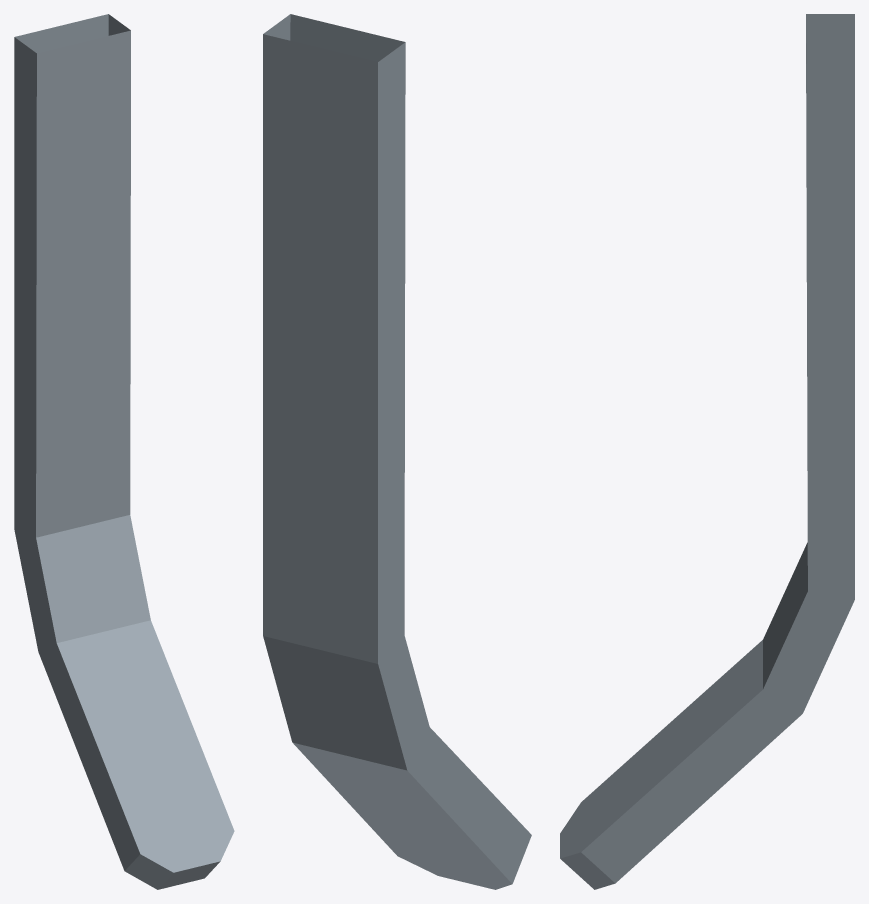
Rendered from SM_Prop_Kitchen_Drinks_Machine_01_Handle_03.obj.
3 views of the same model, side by side, from view 1: azimuth 30°, elevation 25°; view 2: azimuth 150°, elevation 25°; view 3: azimuth 270°, elevation 25° (orthographic). The views are drawn at different scales.
Visible parts, largest first — view 1: SM_Prop_Kitchen_Drinks_Machine_01_Handle_03_0; view 2: SM_Prop_Kitchen_Drinks_Machine_01_Handle_03_0; view 3: SM_Prop_Kitchen_Drinks_Machine_01_Handle_03_0.
Boxes of the visible parts, x1,y1,x2,y2 form: SM_Prop_Kitchen_Drinks_Machine_01_Handle_03_0: (14,14,234,889); SM_Prop_Kitchen_Drinks_Machine_01_Handle_03_0: (263,14,531,889); SM_Prop_Kitchen_Drinks_Machine_01_Handle_03_0: (560,14,854,889).
Bounding box in the file's own units: 0.0309 × 0.2418 × 0.0771.
Materials: 1 (1 with a texture image).
